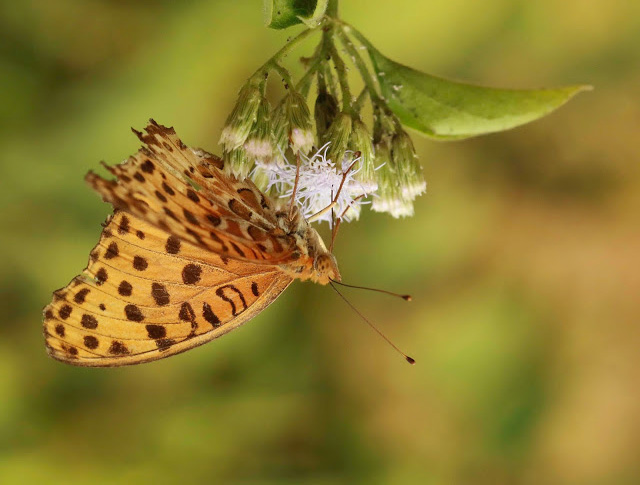Argyreus hyperbius: (40, 112, 421, 372)
butterfly: (38, 110, 419, 370)
